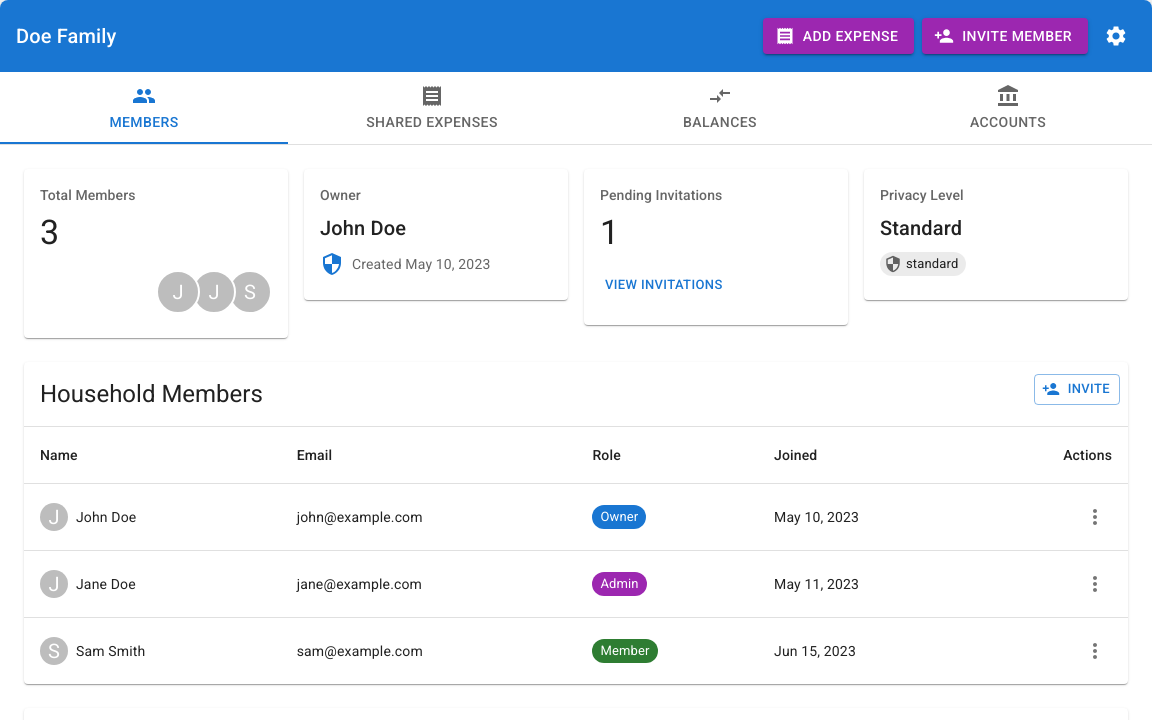
Scenario: HouseholdManager Component › validates email when sending invitation
The image size is (1152, 720).
# Open the invite dialog
Click the button "Invite Member": coordinates (1005, 36) [922, 18, 1088, 54]
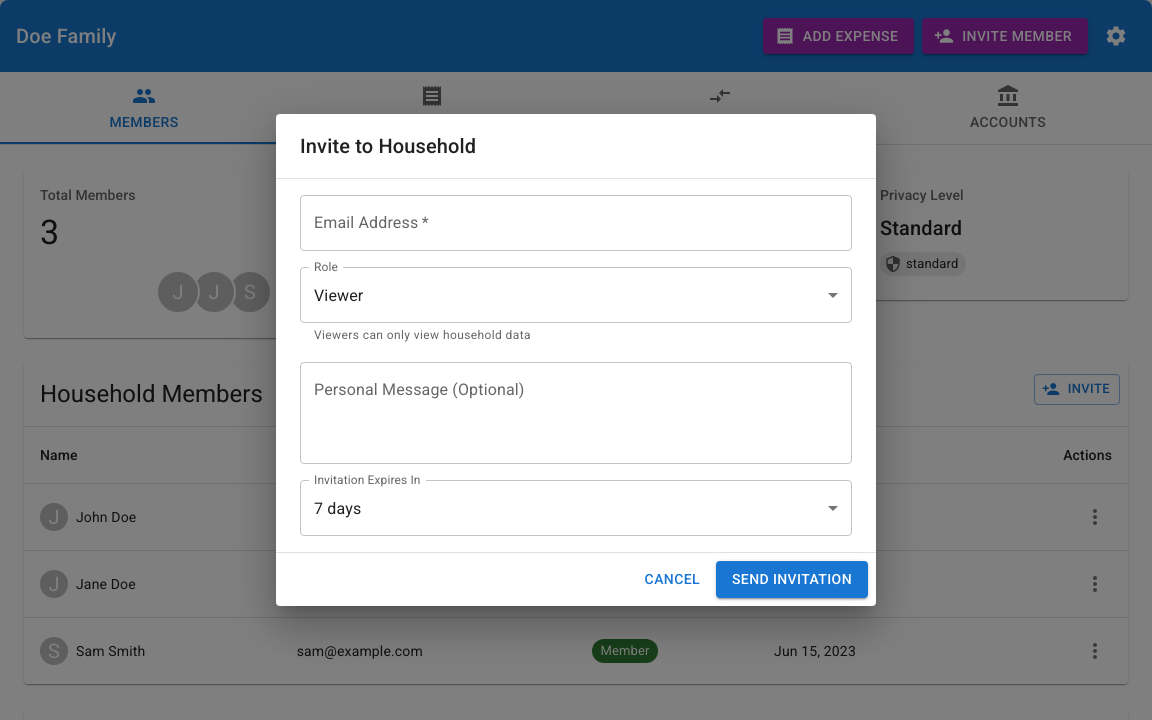
# Try to send without entering email
Click the button "Send Invitation": coordinates (792, 579) [716, 561, 868, 598]
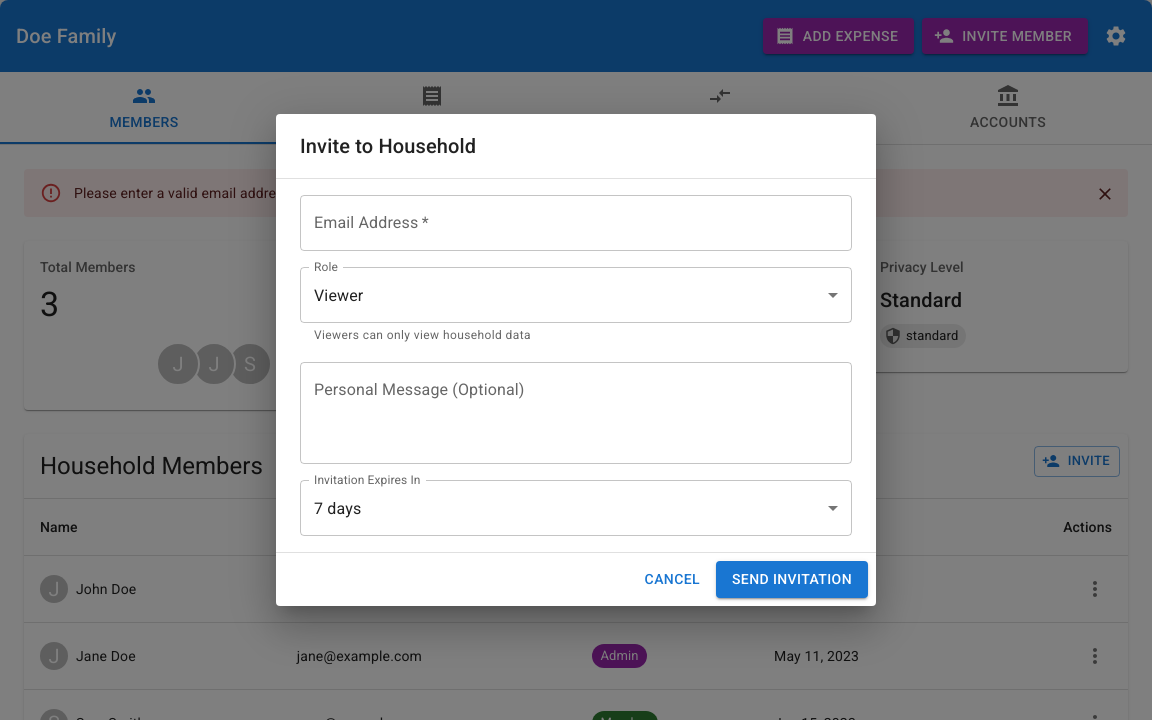
Now the text "Please enter a valid email address" is shown, box [74, 185, 291, 201]
